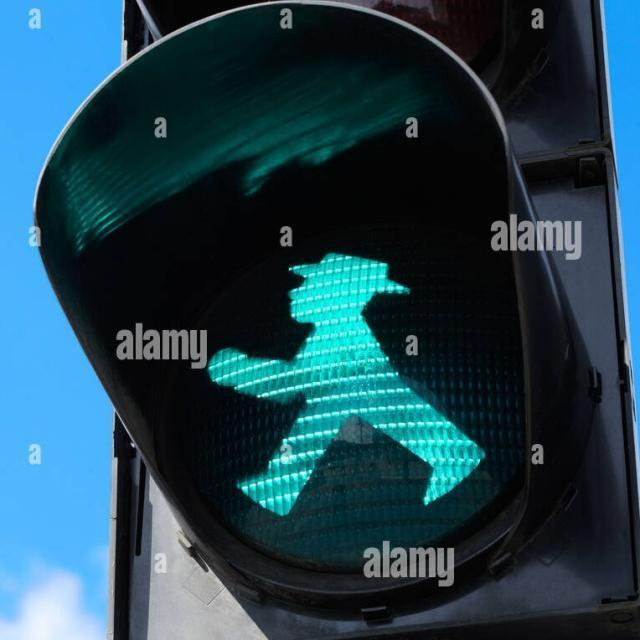geen-crossing: (224, 259, 482, 512)
